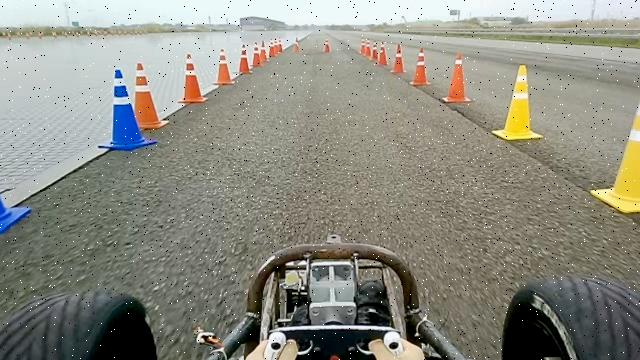blue cone: (97, 68, 158, 152)
red cone: (133, 62, 169, 130), (177, 52, 208, 103), (442, 52, 472, 103), (409, 46, 431, 86), (212, 48, 235, 85), (389, 43, 406, 74), (238, 43, 252, 74), (377, 41, 389, 66)
yellow cone: (589, 98, 640, 214), (491, 63, 544, 140)
